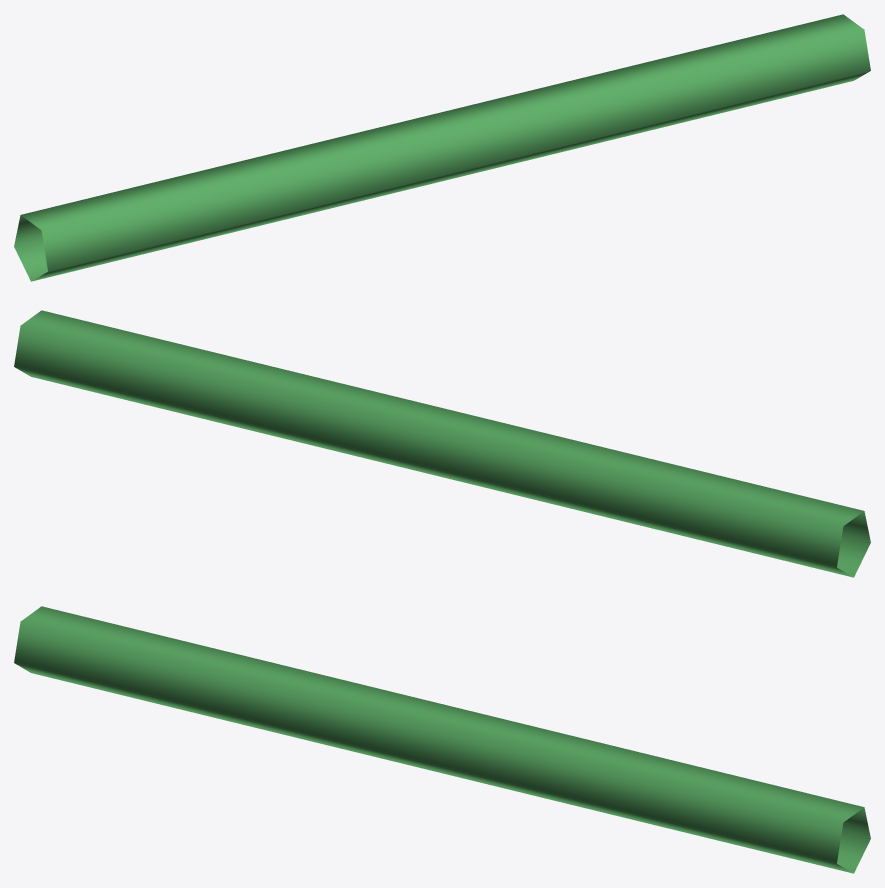
Rendered from PipeA_1.fbx.
3 renders of one model, top to bottom at view 1: azimuth 30°, elevation 25°; view 2: azimuth 150°, elevation 25°; view 3: azimuth 330°, elevation 25°, orthographic.
Parts seen in each view (by area): view 1: PipeA_1; view 2: PipeA_1; view 3: PipeA_1.
Part boxes in pixels (x1,y1,x2,y2): PipeA_1: (14, 14, 870, 281); PipeA_1: (14, 310, 870, 577); PipeA_1: (14, 606, 870, 873).
Bounding box in the file's own units: 220 × 15.09 × 15.8.
